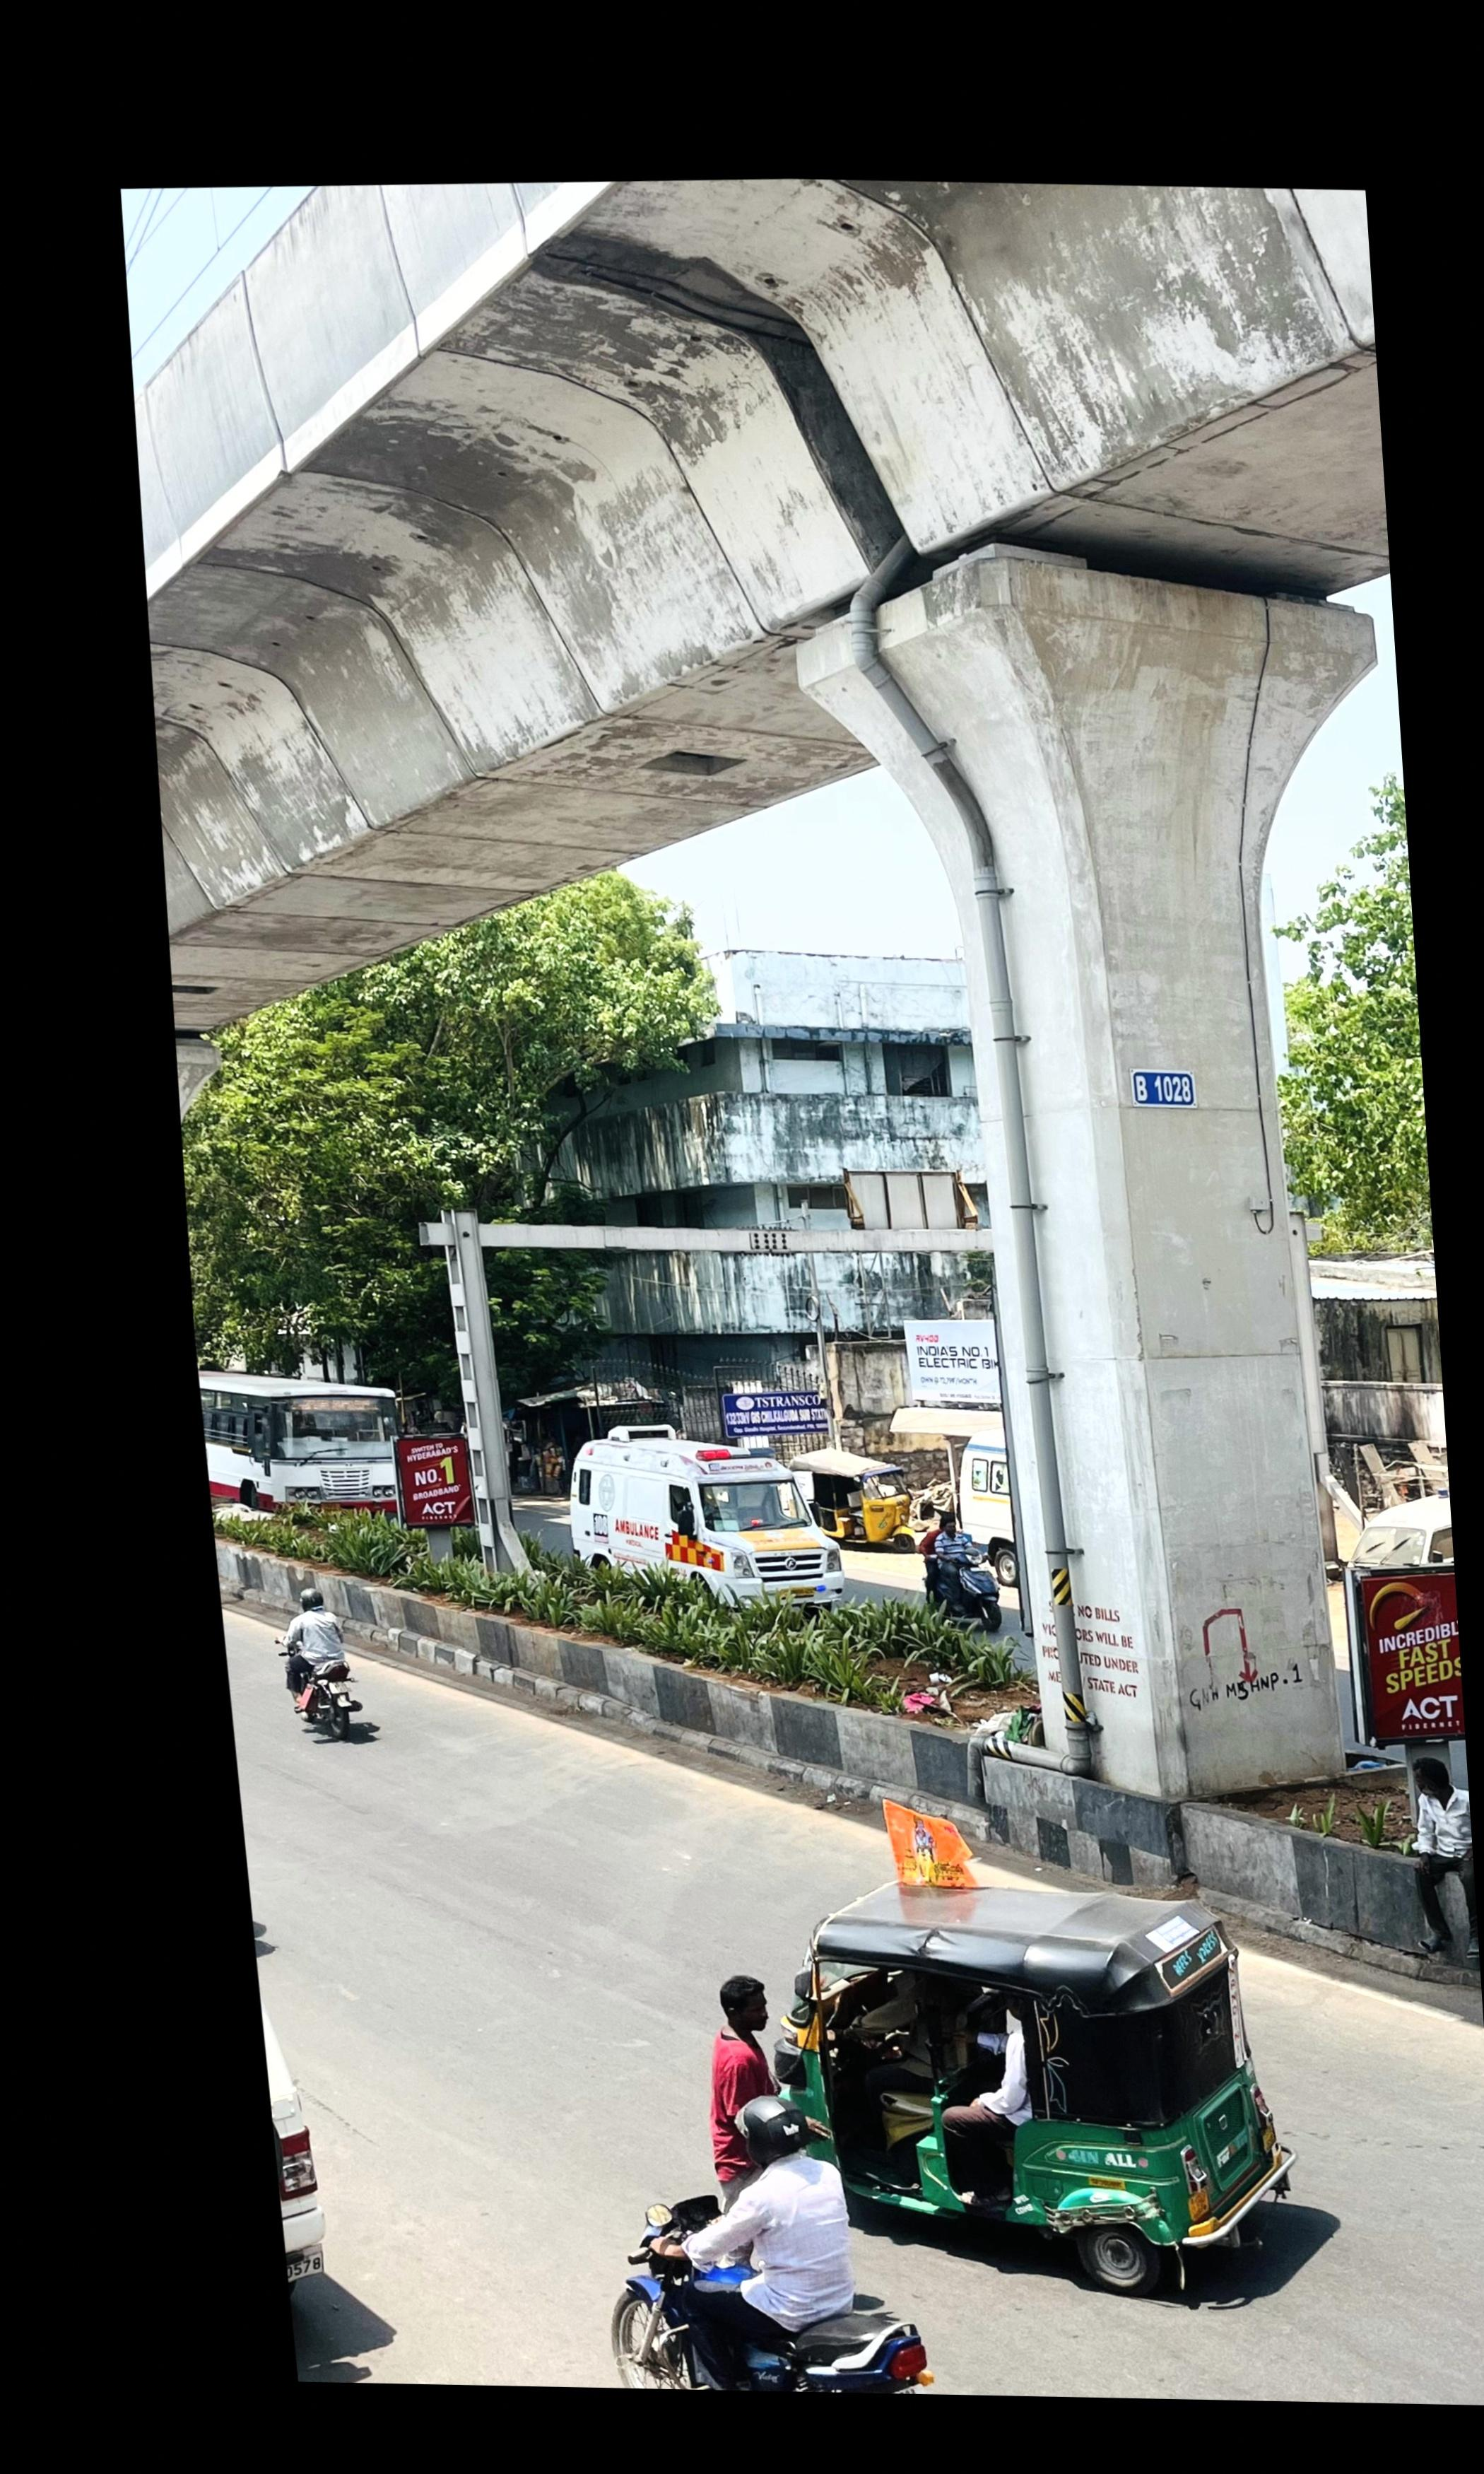ambulance: (530, 1428, 901, 1608)
